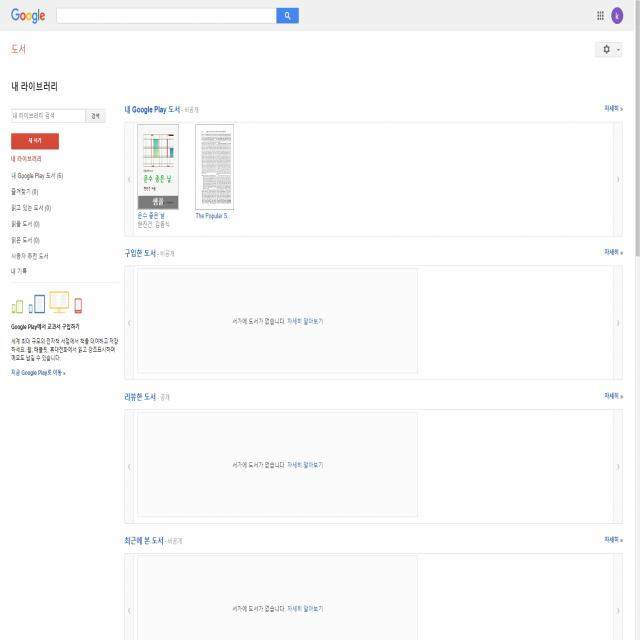menu-bar: (594, 4, 626, 27)
search: (53, 3, 301, 26), (10, 104, 107, 124)
side-panel: (6, 153, 71, 280)
